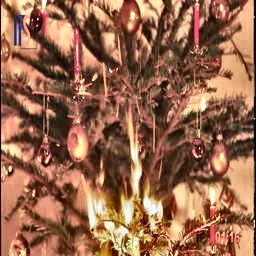fire: (85, 170, 165, 242)
